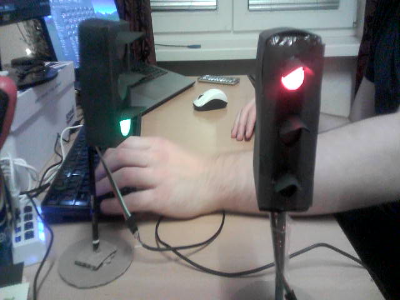trafficlight_green: (108, 24, 135, 139)
trafficlight_red: (269, 40, 318, 211)
